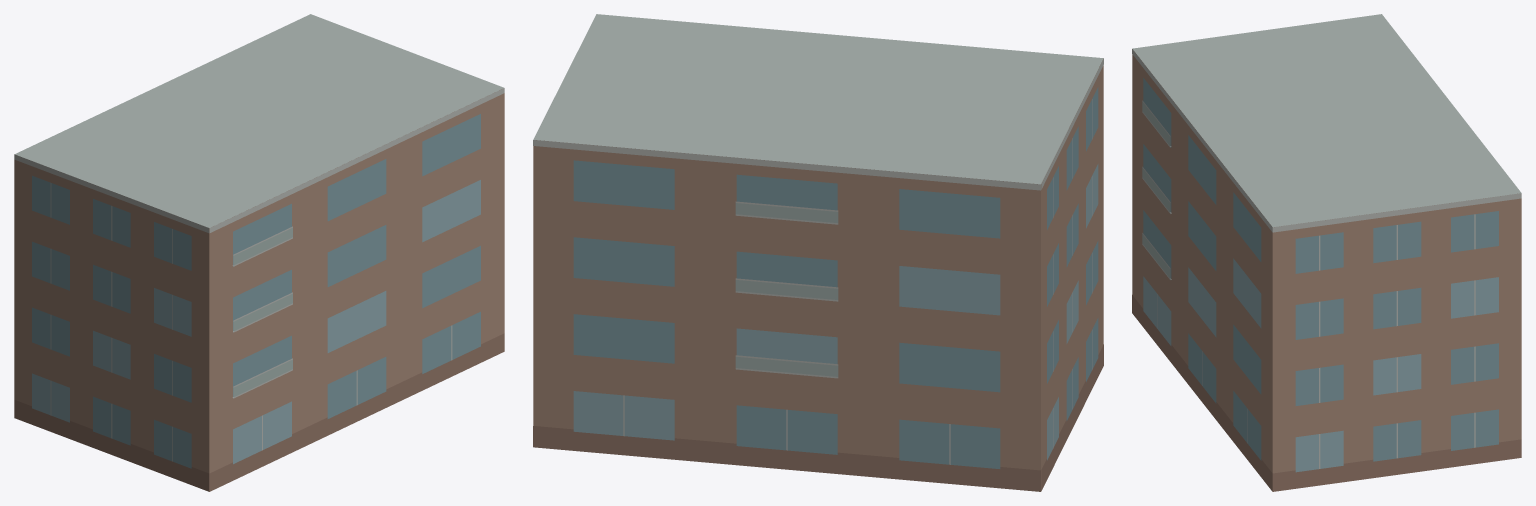
Rendered from survey-upis-32568861.glb.
3 renders of one model, left to right at view 1: azimuth 30°, elevation 25°; view 2: azimuth 150°, elevation 25°; view 3: azimuth 270°, elevation 25°, orthographic. The views are drawn at different scales.
Parts seen in each view (by area): view 1: survey-upis-32568861.tmp; view 2: survey-upis-32568861.tmp; view 3: survey-upis-32568861.tmp.
Boxes of the visible parts, x1=… form: survey-upis-32568861.tmp: x1=14, y1=14, x2=504, y2=491; survey-upis-32568861.tmp: x1=533, y1=14, x2=1103, y2=491; survey-upis-32568861.tmp: x1=1132, y1=14, x2=1521, y2=491.
Size of the model in its own units: 21.1 by 12.2 by 16.29.
